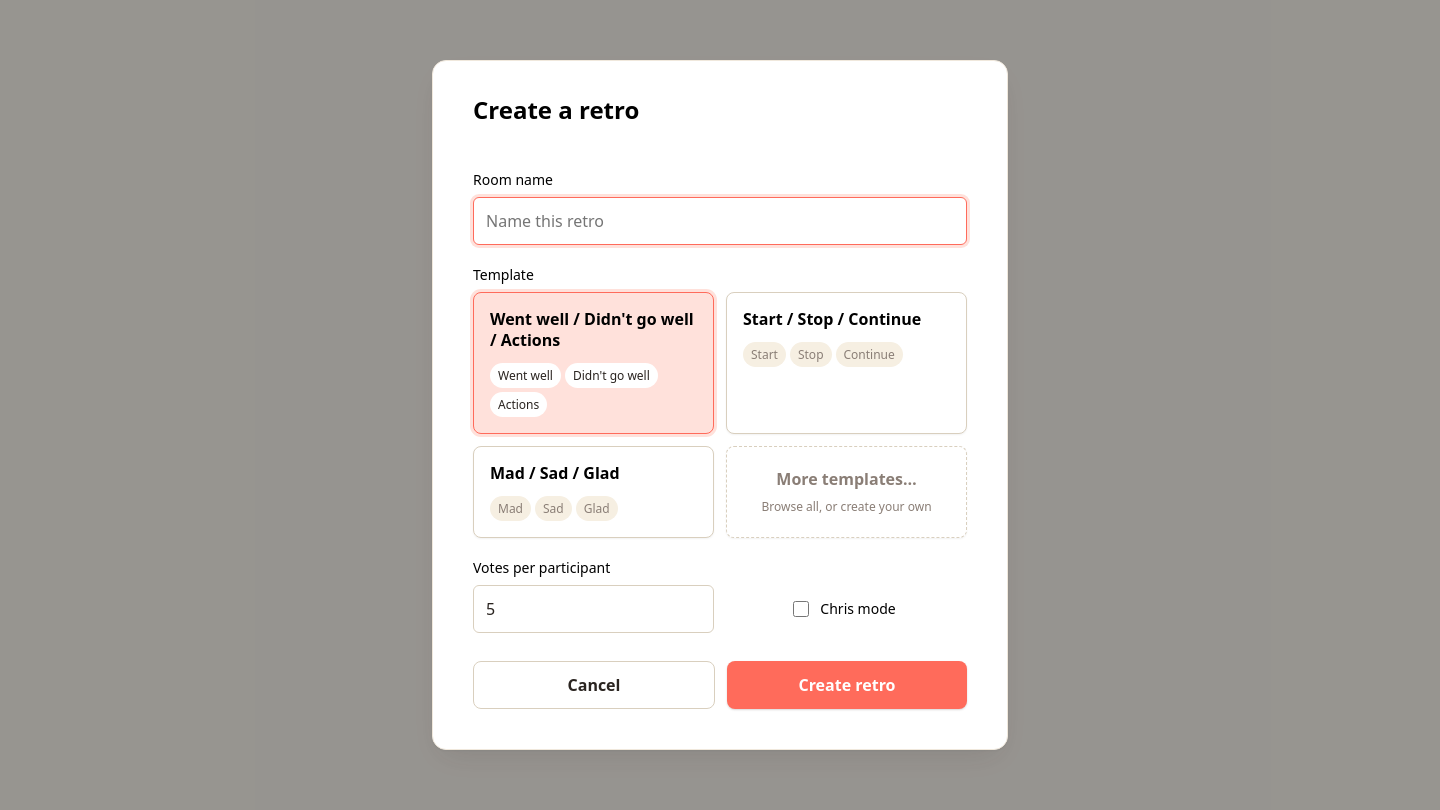
it: CreateRoomModal › "More templates" button opens the picker dialog
The width and height of the screenshot is (1440, 810).
Click the button "More templates… Browse all, or create your own": (846, 492) [726,446,967,538]
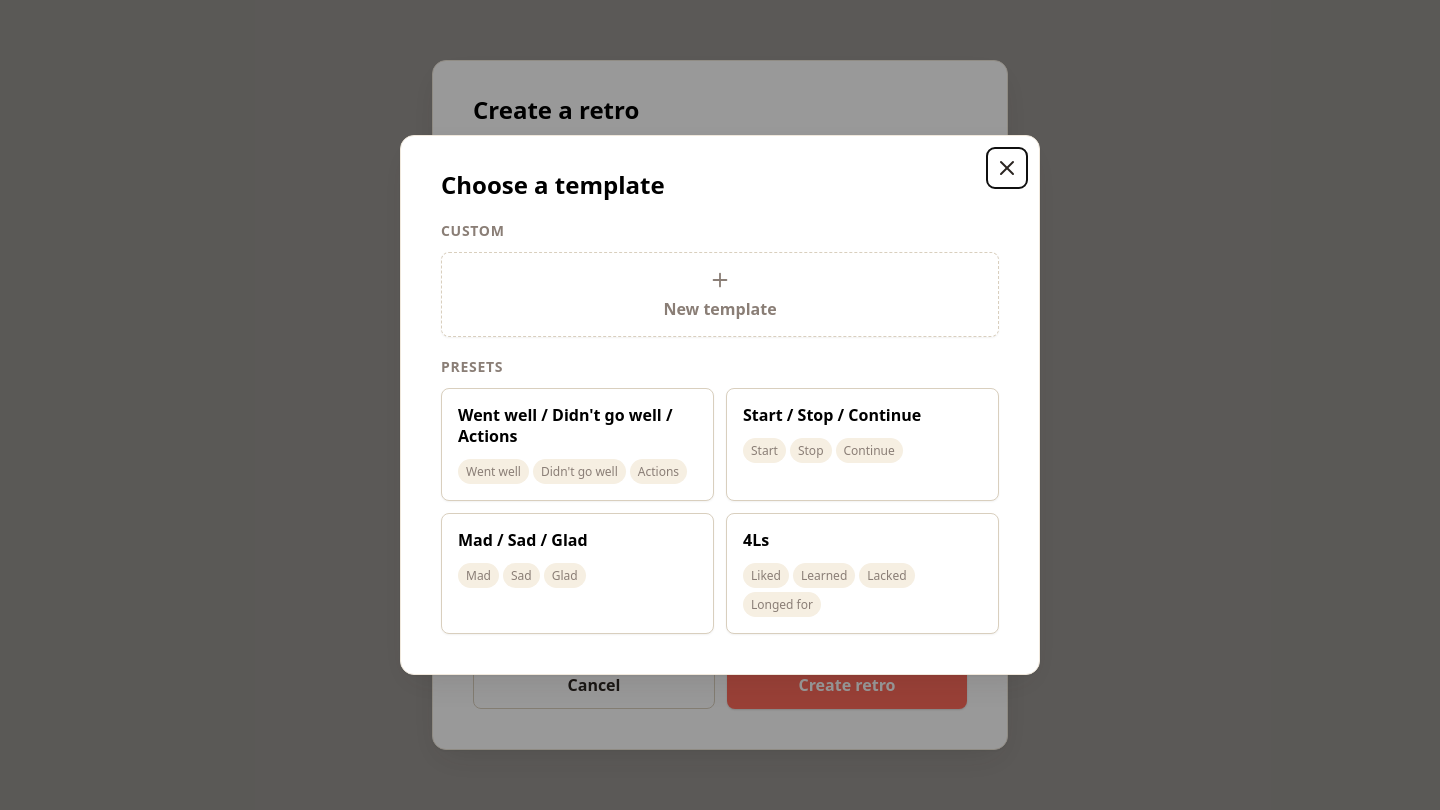
expect the heading "Choose a template" is shown: met, box [441,168,665,201]
